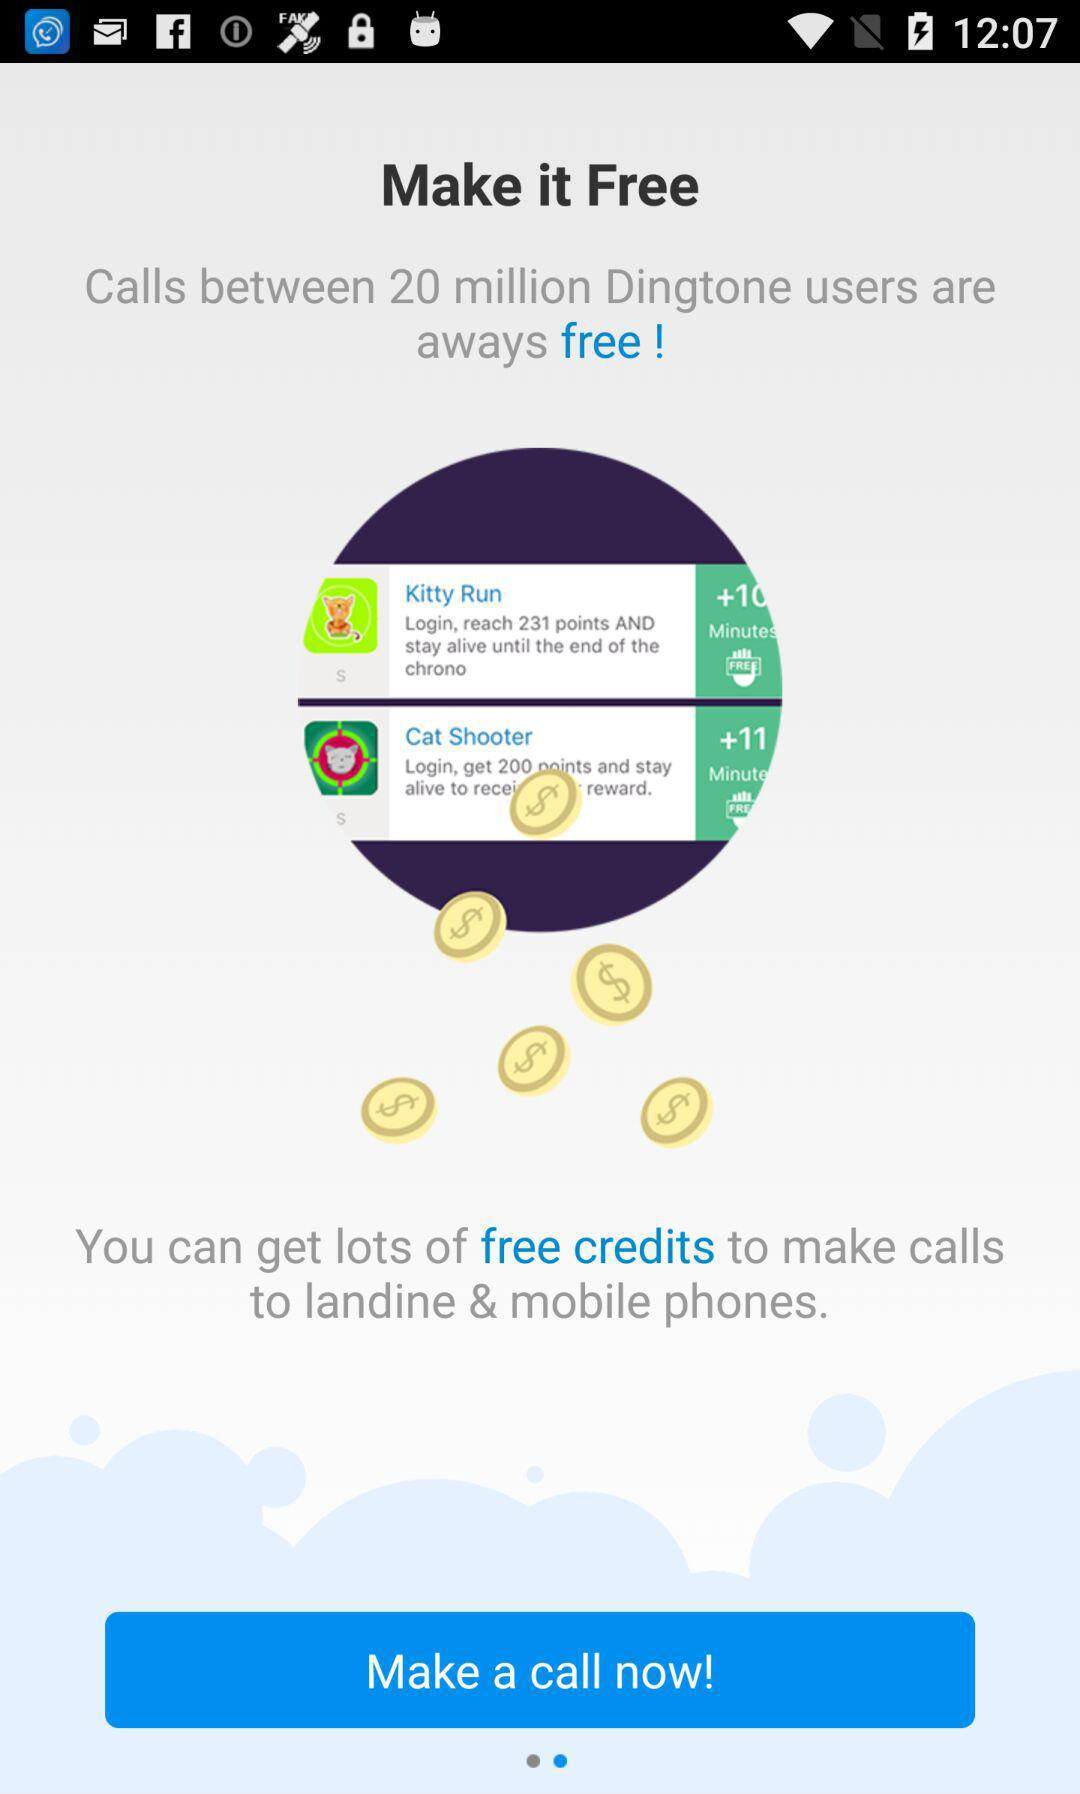Image: (299, 447, 785, 1148)
PageIndicator: (527, 1753, 569, 1768)
Text: (76, 1225, 1006, 1329), (87, 267, 995, 370), (383, 161, 700, 208)
TextButton: (105, 1612, 976, 1729)
UpperTaskBar: (1, 1, 1080, 64)
